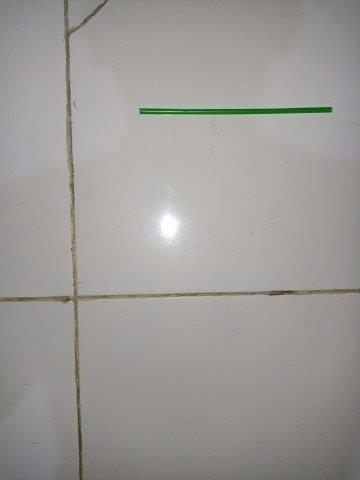sedotan: (140, 106, 333, 115)
